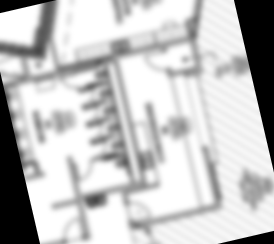door: (142, 49, 170, 77), (59, 214, 85, 244), (125, 197, 152, 224), (72, 157, 96, 183), (59, 71, 82, 92), (76, 87, 99, 107), (80, 105, 102, 125), (89, 139, 111, 159), (86, 122, 106, 141)
wall: (111, 59, 149, 193), (103, 62, 137, 184), (4, 57, 119, 89), (128, 201, 225, 231), (64, 154, 94, 243), (112, 33, 197, 61), (54, 49, 117, 73), (79, 180, 149, 201), (201, 145, 223, 211), (184, 17, 204, 77), (47, 36, 61, 71), (16, 50, 32, 80), (50, 197, 81, 212), (182, 66, 206, 79), (25, 171, 48, 183), (41, 236, 68, 244)
